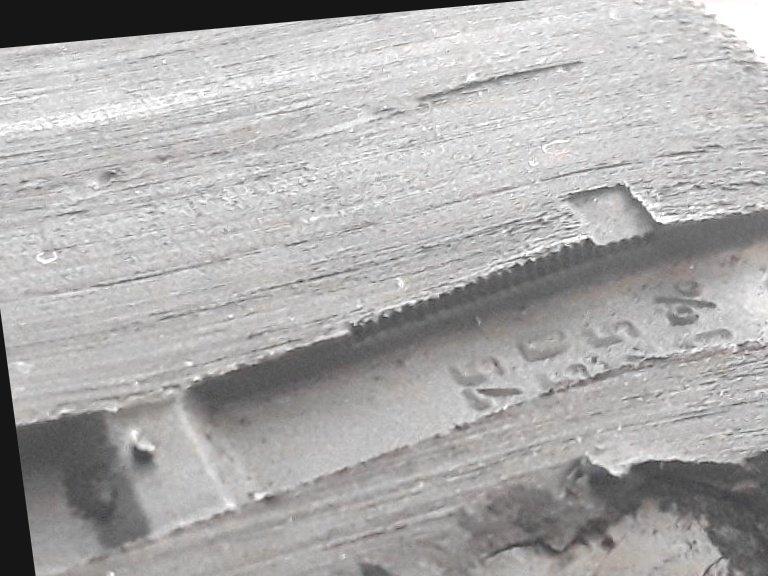temoin:0: (541, 160, 684, 299)
